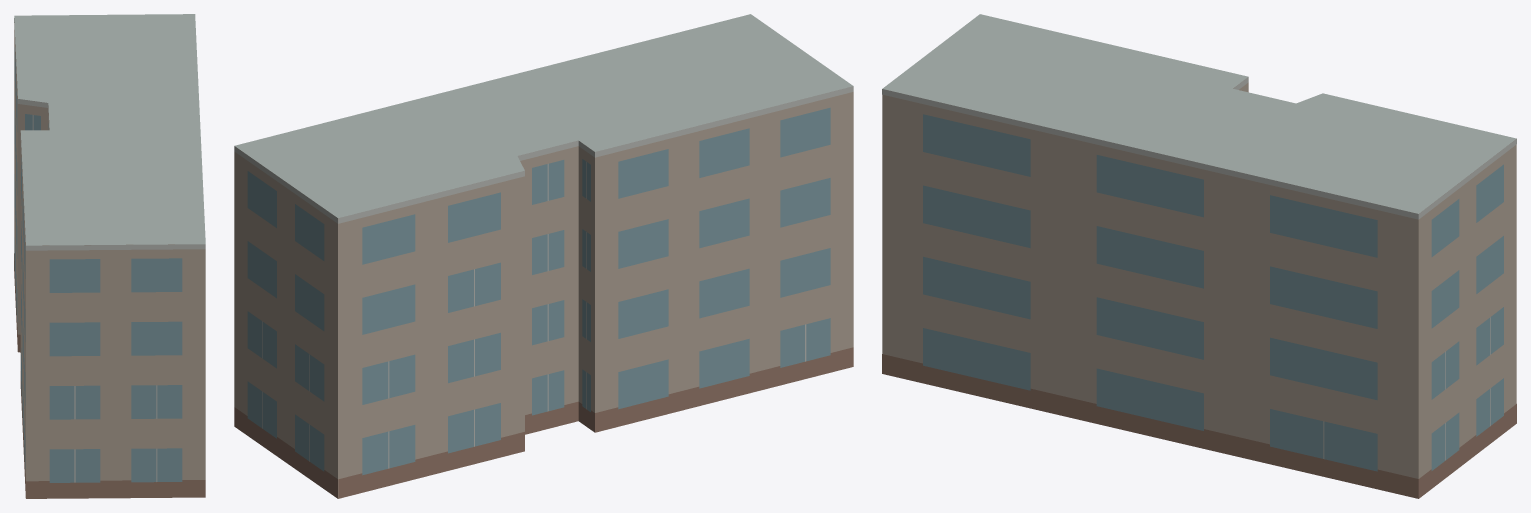
The model's file is residential-356102cf-10d6-4206-afb9-d95cb7550aff.glb.
3 renders of one model, left to right at view 1: azimuth 30°, elevation 25°; view 2: azimuth 150°, elevation 25°; view 3: azimuth 270°, elevation 25°, orthographic. The views are drawn at different scales.
Parts seen in each view (by area): view 1: residential-356102cf-10d6-4206-afb9-d95cb7550aff.tmp; view 2: residential-356102cf-10d6-4206-afb9-d95cb7550aff.tmp; view 3: residential-356102cf-10d6-4206-afb9-d95cb7550aff.tmp.
Part boxes in pixels (x1=…): residential-356102cf-10d6-4206-afb9-d95cb7550aff.tmp: x1=14, y1=14, x2=205, y2=498; residential-356102cf-10d6-4206-afb9-d95cb7550aff.tmp: x1=234, y1=14, x2=853, y2=498; residential-356102cf-10d6-4206-afb9-d95cb7550aff.tmp: x1=882, y1=14, x2=1516, y2=498.
Bounding box in the file's own units: 18.36 × 12.2 × 24.63.
